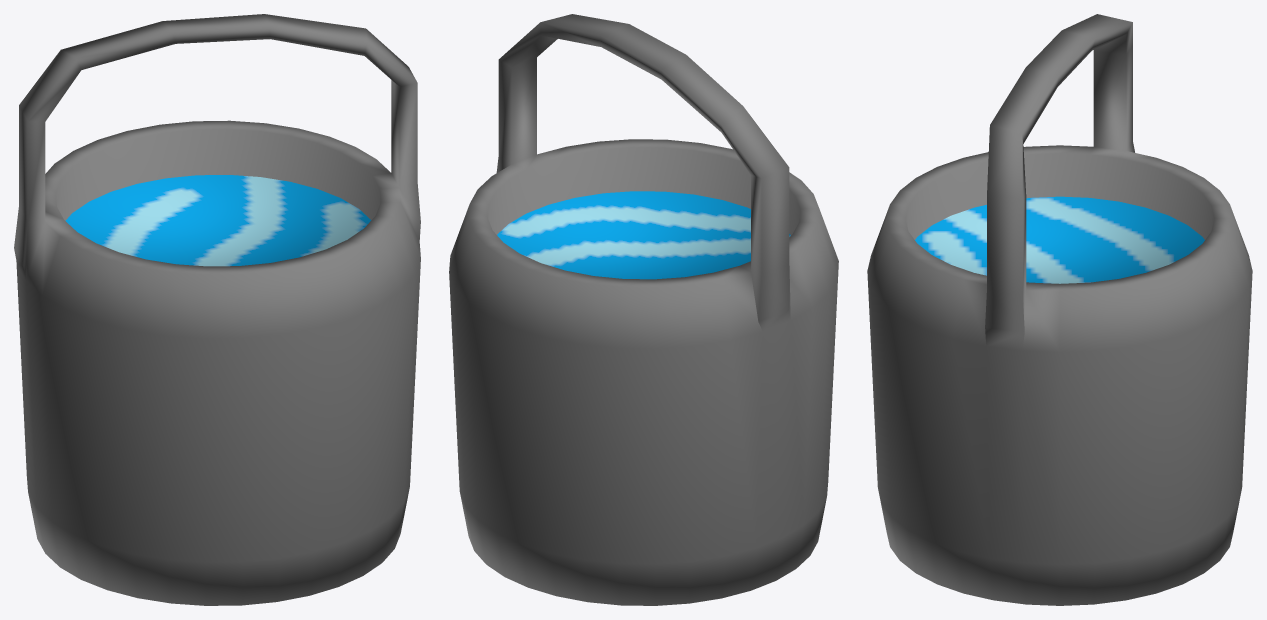
Rendered from waterBucket.fbx.
3 renders of one model, left to right at view 1: azimuth 30°, elevation 25°; view 2: azimuth 150°, elevation 25°; view 3: azimuth 270°, elevation 25°, orthographic. The views are drawn at different scales.
Parts seen in each view (by area): view 1: Cylinder; view 2: Cylinder; view 3: Cylinder.
Part boxes in pixels (x1,y1,x2,y2): Cylinder: (14, 14, 420, 605); Cylinder: (449, 14, 838, 605); Cylinder: (867, 14, 1252, 605).
Size of the model in its own units: 222 by 307 by 222.
Materials: 1 (1 with a texture image).
